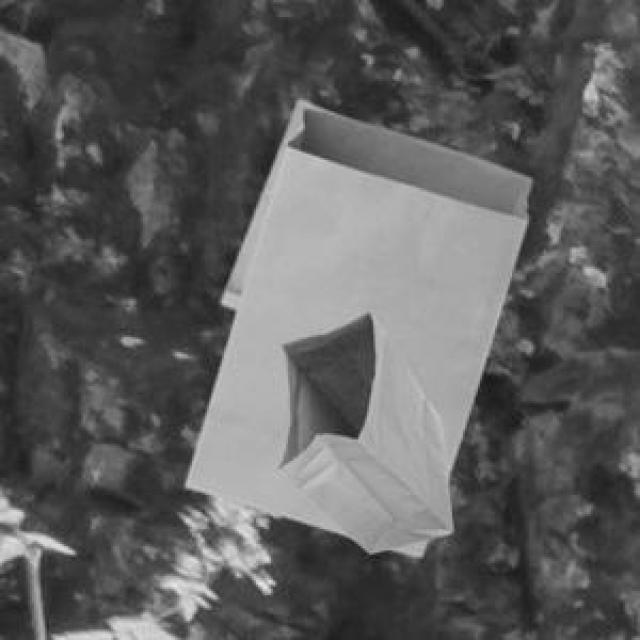paper: (181, 105, 527, 553), (275, 309, 448, 548), (218, 96, 318, 305)
